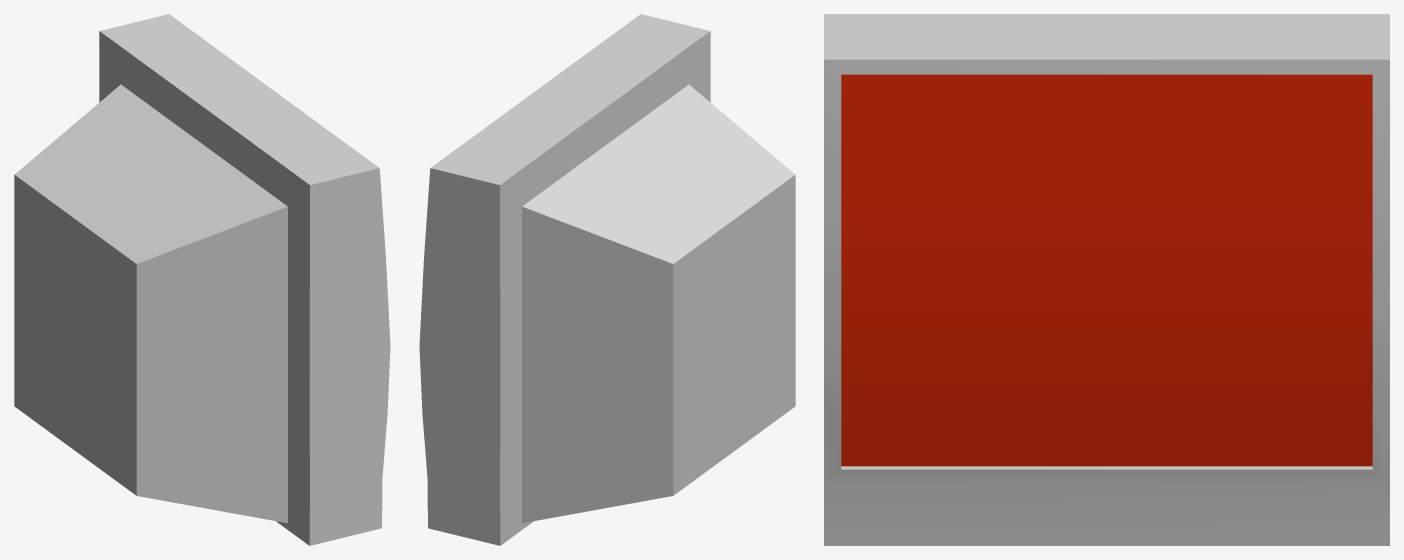
3 renders of one model, left to right at view 1: azimuth 30°, elevation 25°; view 2: azimuth 150°, elevation 25°; view 3: azimuth 270°, elevation 25°, orthographic. The views are drawn at different scales.
Parts seen in each view (by area): view 1: TV; view 2: TV; view 3: TV.
Boxes of the visible parts, box(x1,y1,x2,y2) form: TV: box(14, 14, 390, 545); TV: box(419, 14, 795, 545); TV: box(824, 14, 1389, 545).
Bounding box in the file's own units: 70.57 × 116 × 122.
